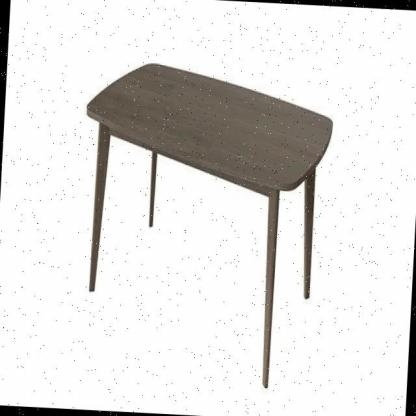Table: (54, 28, 343, 404)
